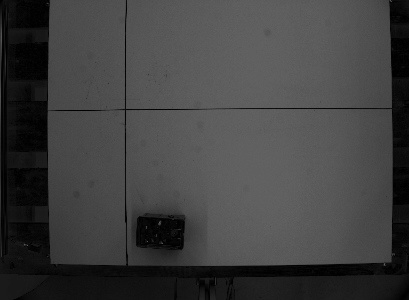kltxs: (133, 209, 189, 252)
